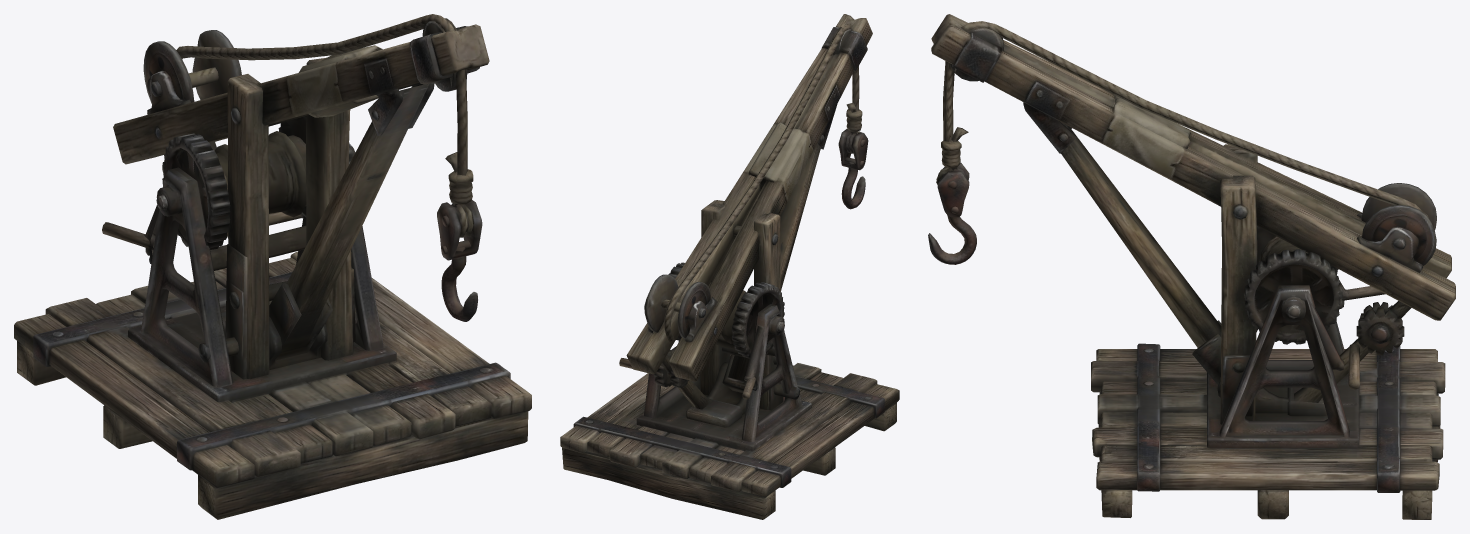
File: SM_Env_SohoWharfCrane.fbx
The picture shows the model from 3 angles, left to right: view 1: azimuth 30°, elevation 25°; view 2: azimuth 150°, elevation 25°; view 3: azimuth 270°, elevation 25°; orthographic projection. The views are drawn at different scales.
Visible parts, largest first — view 1: SM_Env_SohoWharfCrane; view 2: SM_Env_SohoWharfCrane; view 3: SM_Env_SohoWharfCrane.
Part boxes in pixels (<box>): SM_Env_SohoWharfCrane: <box>14,14,531,519</box>; SM_Env_SohoWharfCrane: <box>560,14,899,519</box>; SM_Env_SohoWharfCrane: <box>928,14,1455,519</box>.
Bounding box in the file's own units: 67.5 × 115 × 105.
Materials: 1 (1 with a texture image).
